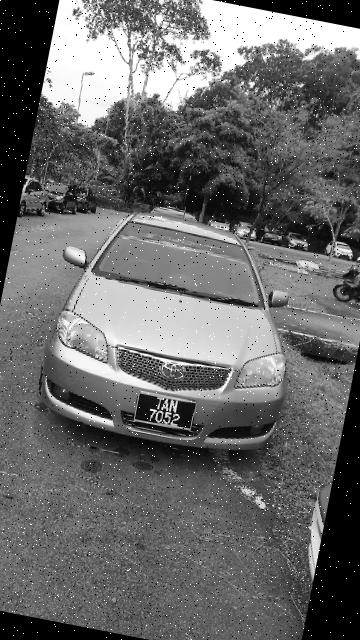License_Plate: (137, 392, 198, 433)
car: (23, 195, 317, 470)
